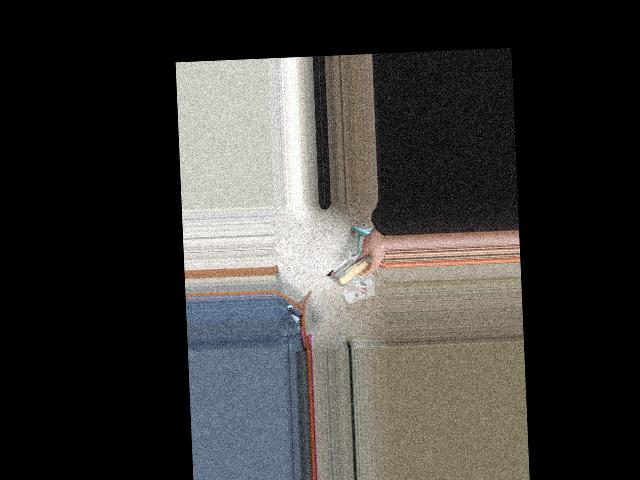cheese: (324, 249, 384, 288)
